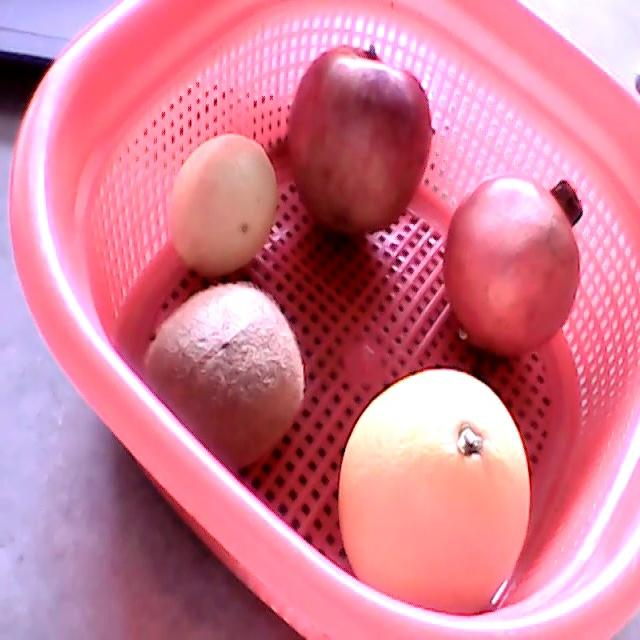apple: (288, 43, 432, 237)
kiwi: (142, 282, 306, 465)
lemon: (167, 133, 277, 277)
orange: (337, 368, 531, 616)
pomegranate: (444, 176, 581, 355)
